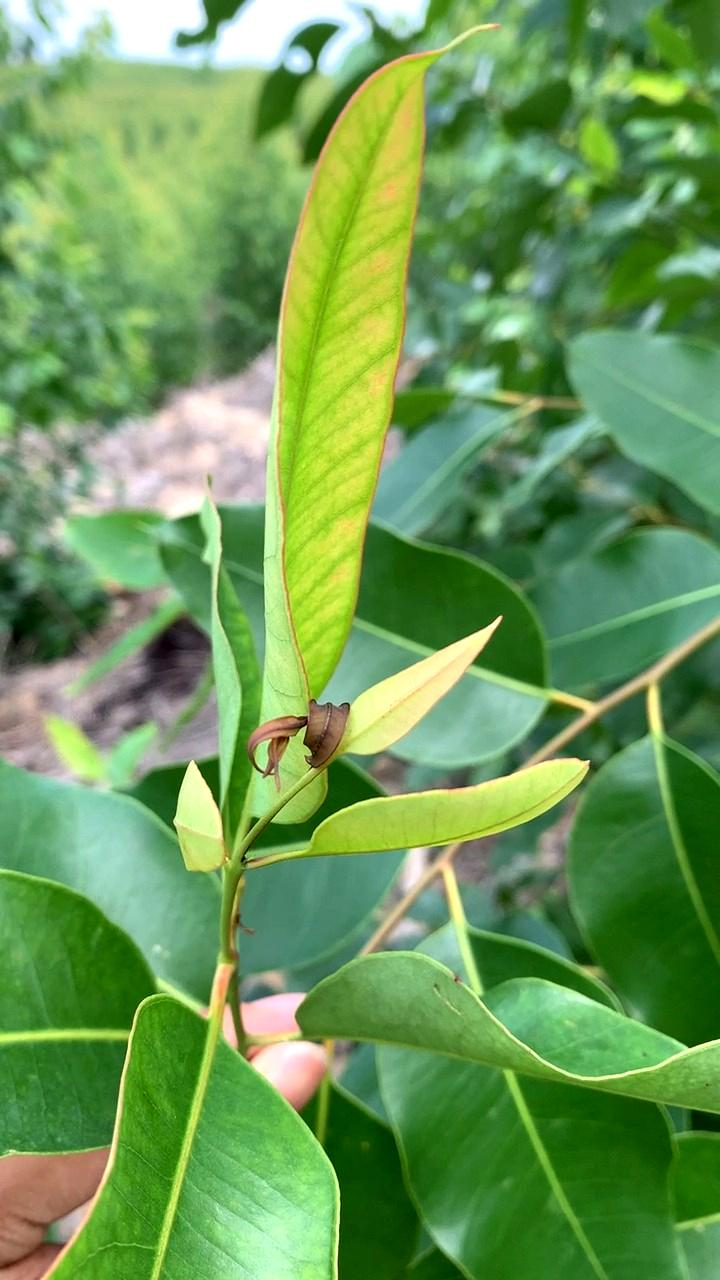Helopeltis-Withered Sprout: (238, 683, 357, 777)
